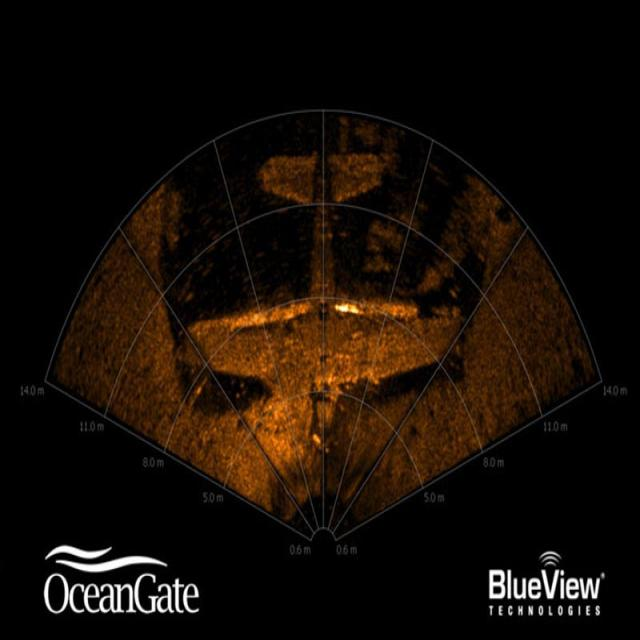plane: (176, 135, 469, 475)
